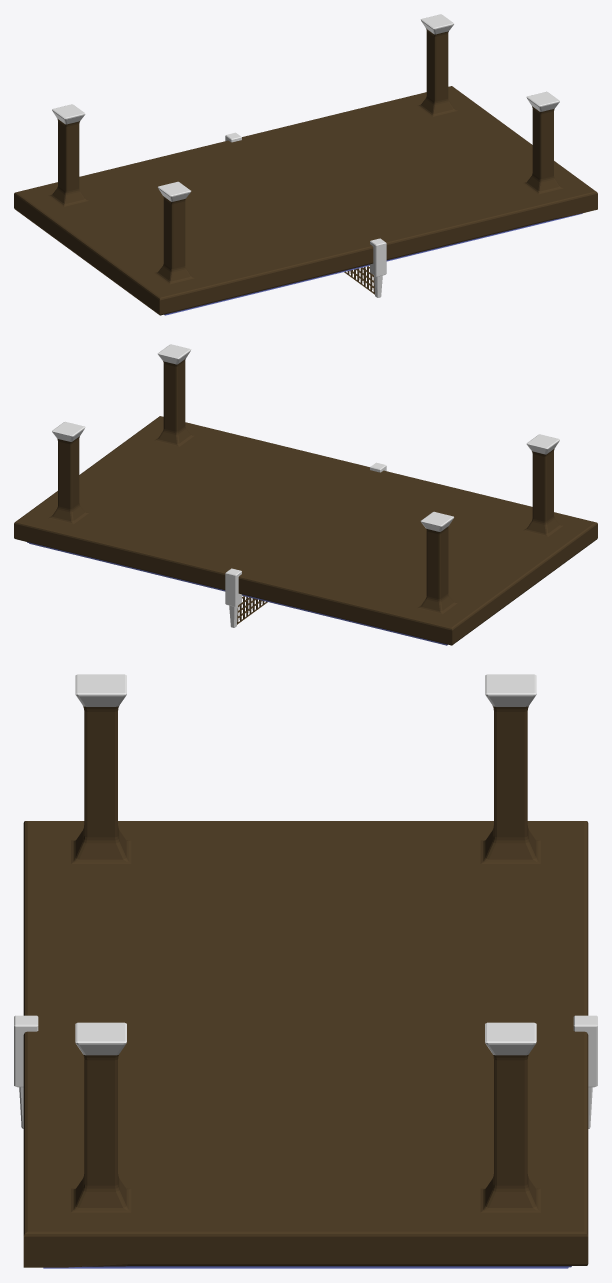
File: Table Tennis.fbx
3 views of the same model, one above another, from view 1: azimuth 30°, elevation 25°; view 2: azimuth 150°, elevation 25°; view 3: azimuth 270°, elevation 25° (orthographic). The views are drawn at different scales.
Parts seen in each view (by area): view 1: tt table; view 2: tt table; view 3: tt table.
Boxes of the visible parts, left/top/right/bottom form: tt table: left=14, top=14, right=597, bottom=315; tt table: left=14, top=344, right=597, bottom=645; tt table: left=14, top=674, right=597, bottom=1268.
Size of the model in its own units: 347 by 105 by 207.
